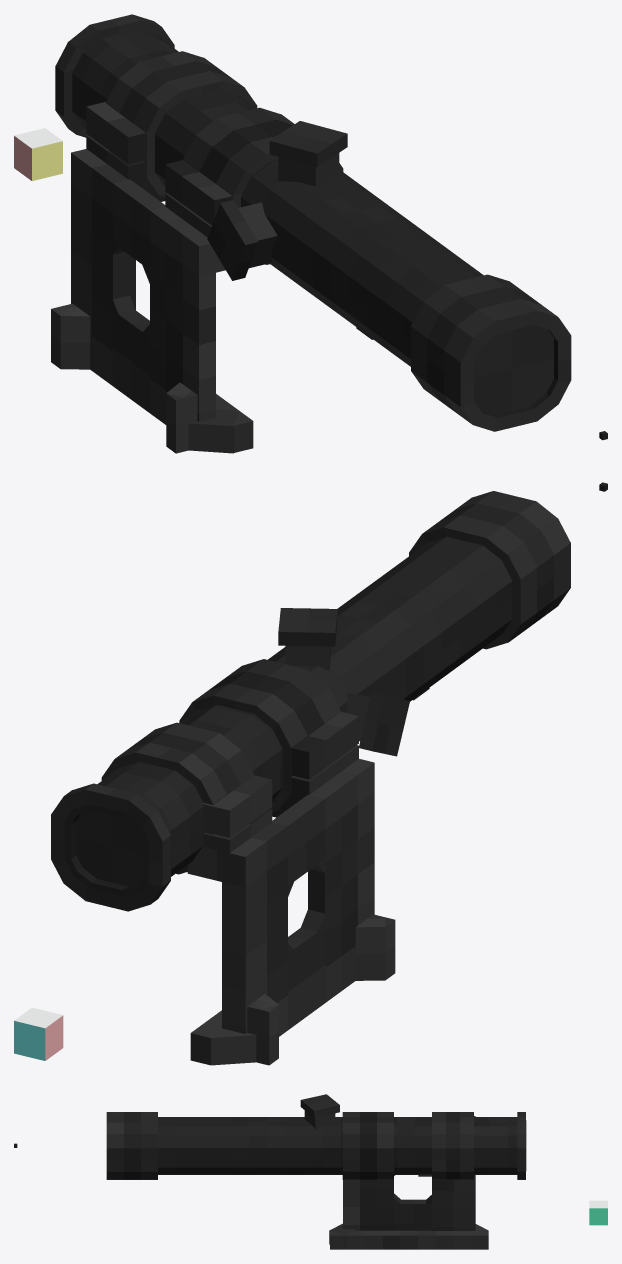
The model's file is j_puscope.geo.fbx.
3 views of the same model, one above another, from view 1: azimuth 30°, elevation 25°; view 2: azimuth 150°, elevation 25°; view 3: azimuth 270°, elevation 25° (orthographic). The views are drawn at different scales.
Visible parts, largest first — view 1: specter20, specter16, specter15, specter18, scopepip, specter17, specter14, specter2, specter19, _ca_scope; view 2: specter20, specter16, specter15, specter17, specter18, specter19, pu, specter2, specter14, _ca_scope; view 3: specter16, specter20, specter17, specter15, specter18, specter2, specter19, _ca_scope.
Boxes of the visible parts, x1,y1,x2,y2 form: specter20: (51, 102, 253, 453); specter16: (72, 29, 483, 366); specter15: (411, 274, 571, 431); specter18: (106, 51, 257, 196); scopepip: (474, 325, 553, 414); specter17: (183, 107, 343, 264); specter14: (207, 200, 277, 280); specter2: (269, 121, 347, 186); specter19: (55, 14, 174, 137); _ca_scope: (14, 128, 62, 180); specter20: (187, 711, 395, 1065); specter16: (64, 536, 512, 897); specter15: (409, 491, 570, 649); specter17: (179, 659, 341, 812); specter18: (101, 722, 254, 874); specter19: (51, 783, 170, 911); pu: (76, 810, 142, 886); specter2: (278, 608, 337, 670); specter14: (345, 692, 409, 756); _ca_scope: (14, 1007, 63, 1060); specter16: (158, 1117, 517, 1174); specter20: (329, 1116, 488, 1249); specter17: (342, 1112, 394, 1179); specter15: (106, 1112, 157, 1179); specter18: (432, 1112, 474, 1179); specter2: (300, 1094, 339, 1129); specter19: (517, 1112, 526, 1179); _ca_scope: (589, 1200, 607, 1225).
Size of the model in its own units: 33.37 by 58.88 by 200.
Materials: 1 (1 with a texture image).
